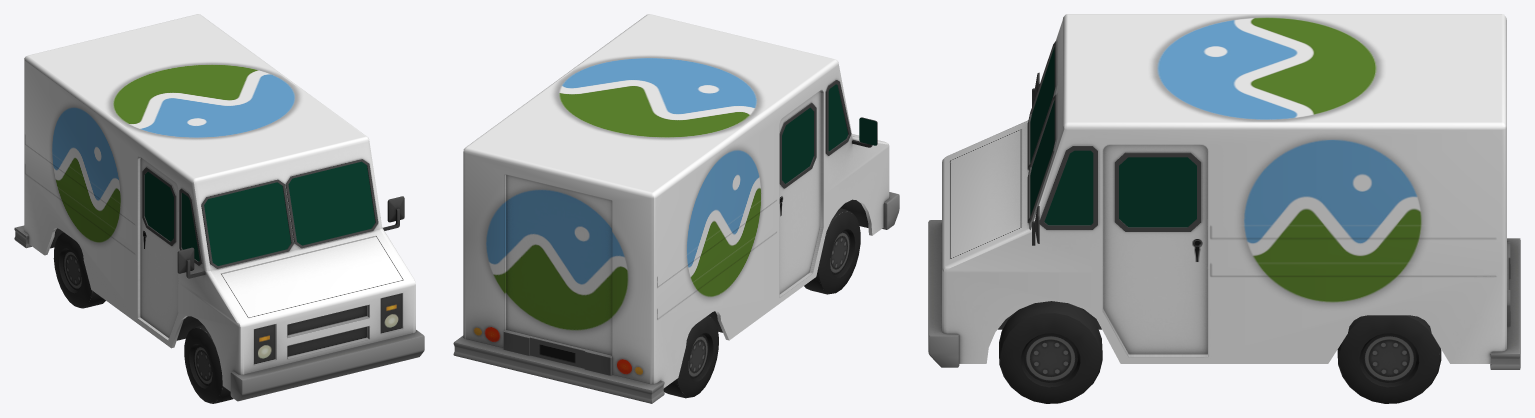
Rendered from CesiumMilkTruck.gltf.
3 renders of one model, left to right at view 1: azimuth 30°, elevation 25°; view 2: azimuth 150°, elevation 25°; view 3: azimuth 270°, elevation 25°, orthographic. The views are drawn at different scales.
Parts seen in each view (by area): view 1: Cesium_Milk_Truck, Wheels, Wheels.001; view 2: Cesium_Milk_Truck, Wheels, Wheels.001; view 3: Cesium_Milk_Truck, Wheels, Wheels.001.
Boxes of the visible parts, left/top/right/bottom form: Cesium_Milk_Truck: left=14, top=14, right=424, bottom=401; Wheels: left=184, top=325, right=233, bottom=403; Wheels.001: left=53, top=232, right=105, bottom=308; Cesium_Milk_Truck: left=453, top=14, right=899, bottom=403; Wheels: left=804, top=208, right=860, bottom=294; Wheels.001: left=663, top=315, right=718, bottom=398; Cesium_Milk_Truck: left=928, top=14, right=1520, bottom=369; Wheels: left=999, top=301, right=1102, bottom=403; Wheels.001: left=1337, top=315, right=1441, bottom=403.
Bounding box in the file's own units: 2.79 × 2.58 × 4.87.
4 materials, 2 textured.
